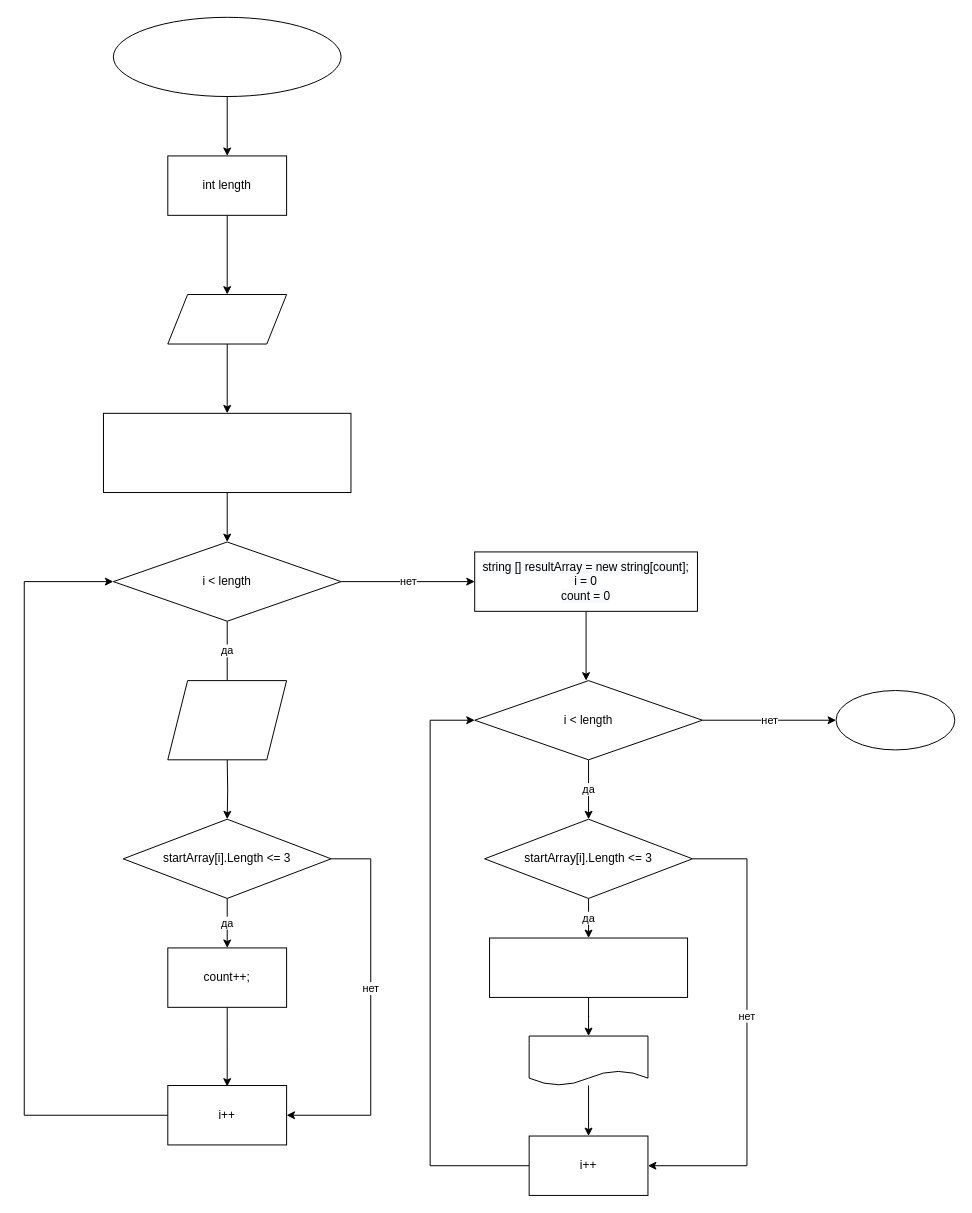
Some shapes in this 972 by 1213 pixel diagram are drawn without their labels. Here are the shapes that lost their labels. From the top down, the centre of each, then its label:
(227,319): length
(226,452): string [] startArray = new string[length]; int count = 0; i=0
(227,720): startArray[i]
(588,967): resultArray[count] = startArray[i] count++
(588,1060): resultArray[count]
